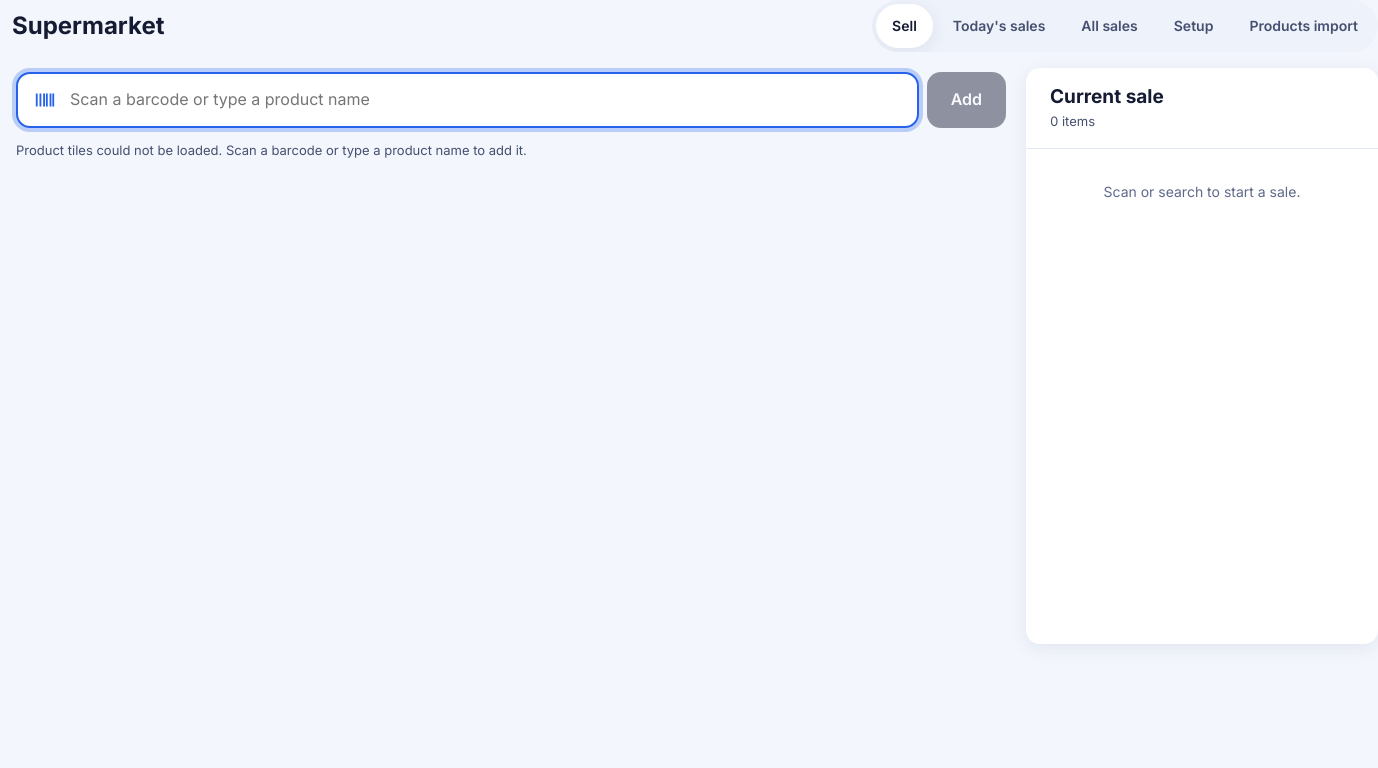
<SupermarketScreen> › sales reports: date range and totals › shows no split when the server sent none (the total is still shown)
Click the tab "All sales": (1110, 26) [1065,4,1154,48]
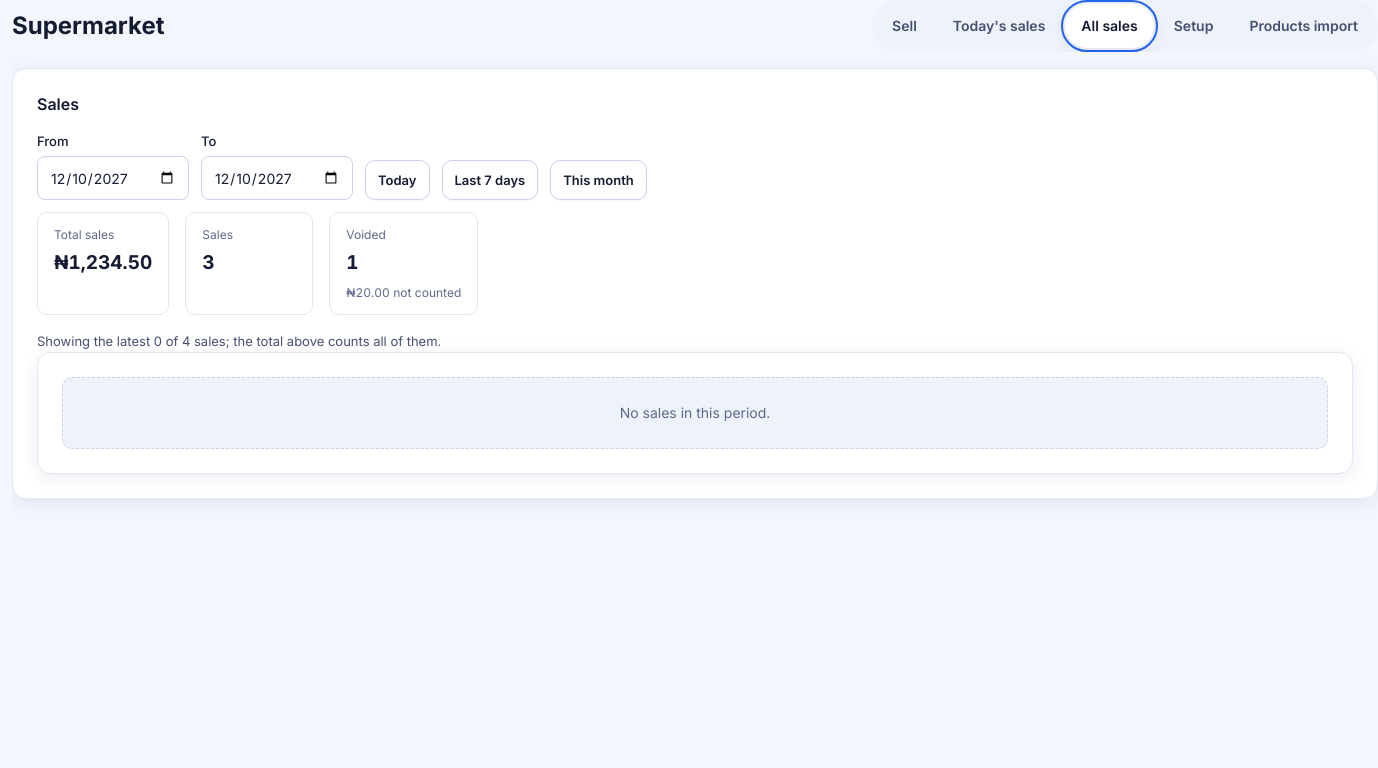
Expected: the element named "Sales totals" is shown, [37,212,478,315]
